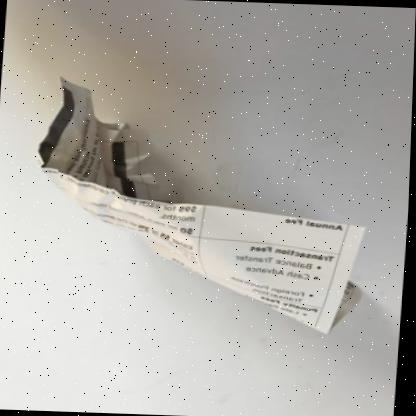Paper: (41, 76, 366, 332)
